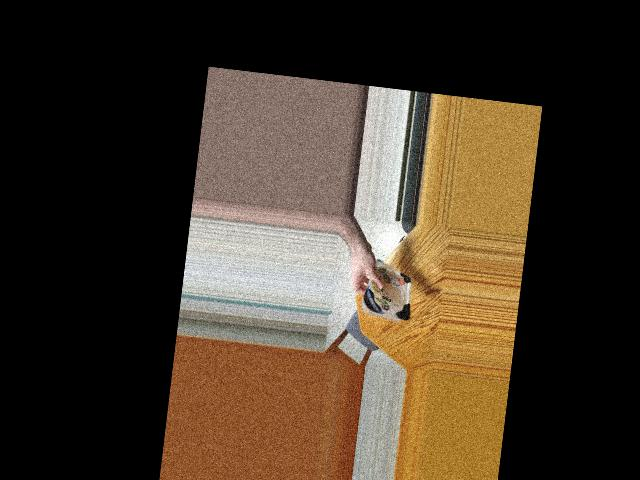cheese: (358, 268, 412, 325)
